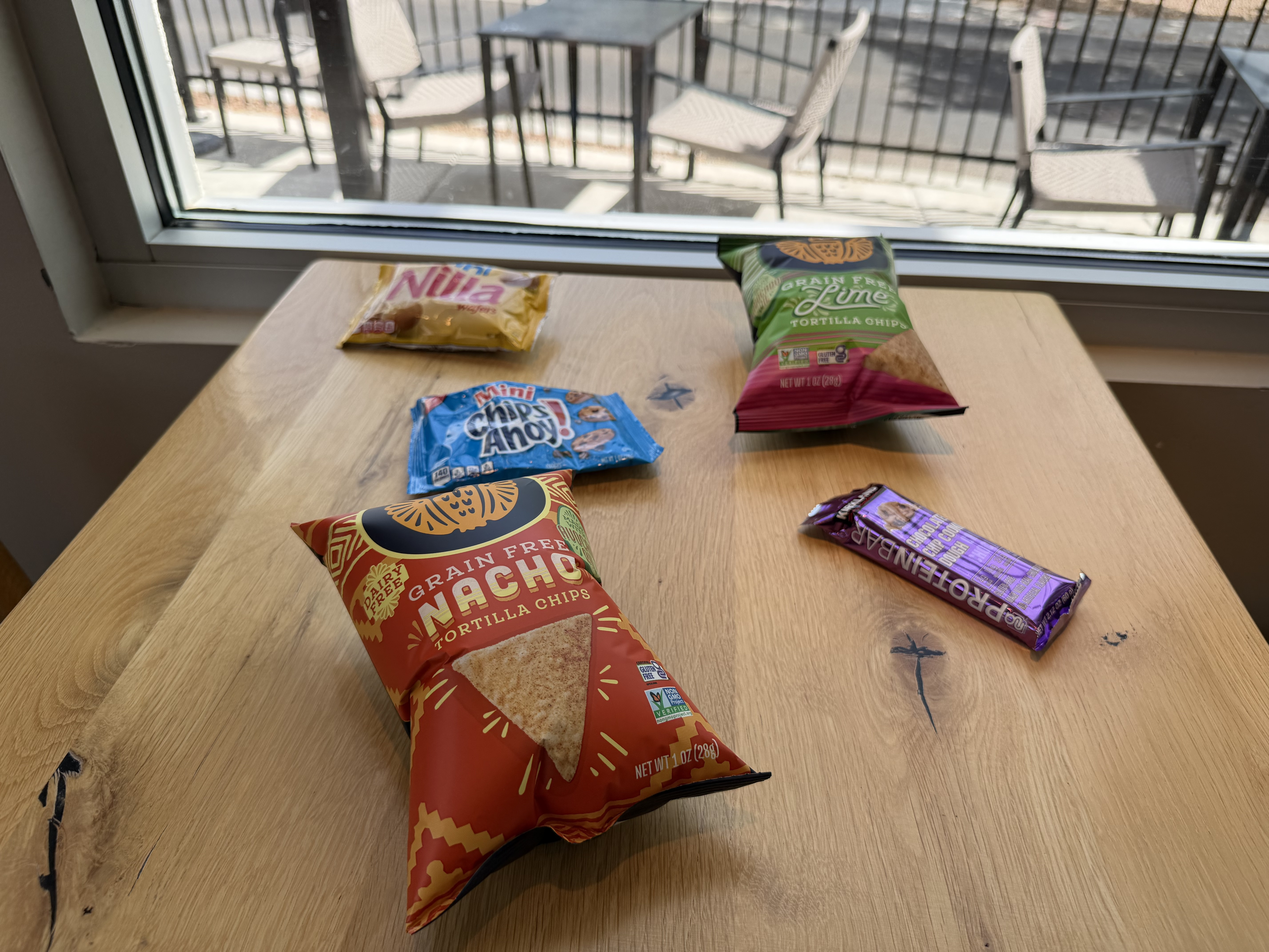chips_ahoy: (395, 385, 644, 488)
chocolate_chip_cookie_dough: (791, 477, 1111, 669)
lime: (709, 219, 973, 441)
nacho: (296, 469, 775, 915)
nilla: (358, 243, 575, 368)
